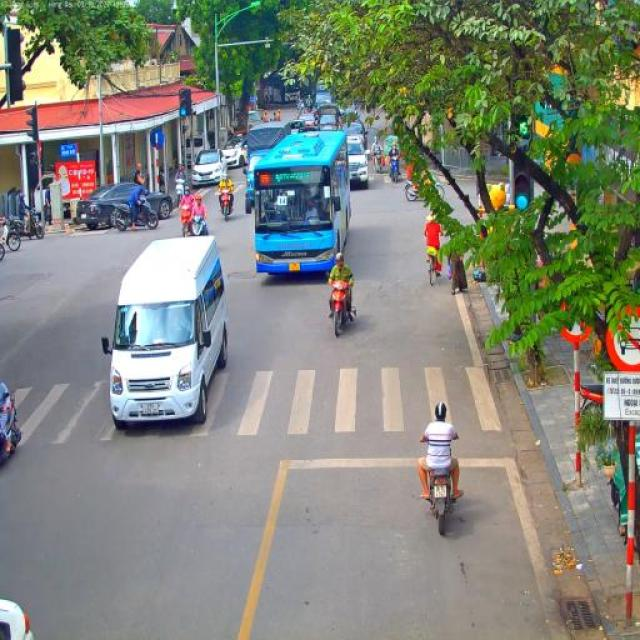bus: (101, 235, 228, 430), (244, 130, 352, 278)
car: (76, 181, 174, 229), (192, 148, 228, 192), (0, 597, 35, 640), (344, 135, 370, 187), (222, 134, 248, 170), (341, 121, 365, 149), (339, 102, 358, 130), (297, 111, 315, 128), (289, 120, 306, 134)
motorcycle: (426, 468, 456, 536), (109, 193, 160, 231), (327, 279, 357, 336), (0, 392, 21, 467), (10, 206, 45, 240), (403, 178, 446, 202), (0, 219, 21, 251), (220, 186, 234, 222), (178, 206, 192, 238), (190, 215, 209, 236), (389, 156, 403, 183), (174, 179, 185, 209), (374, 148, 385, 174), (313, 117, 321, 128), (298, 105, 304, 116), (307, 103, 313, 113)
truck: (246, 120, 299, 190), (316, 104, 338, 132), (282, 76, 302, 103), (315, 90, 333, 108)
